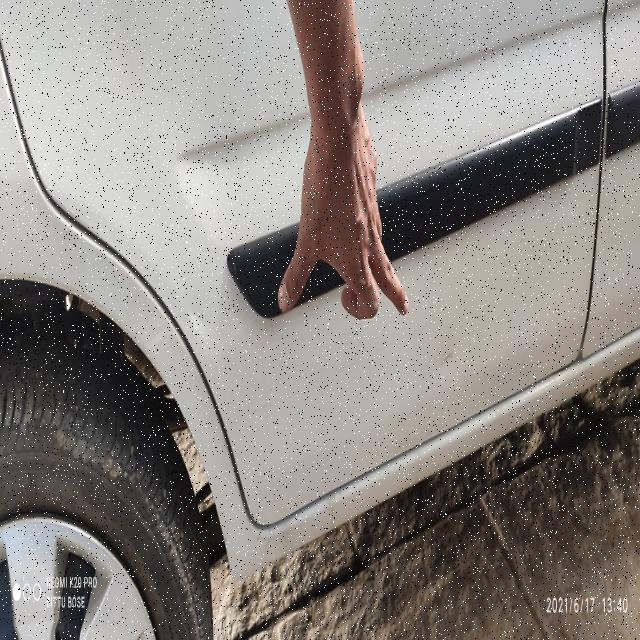doorouter-dent: (228, 2, 602, 421)
